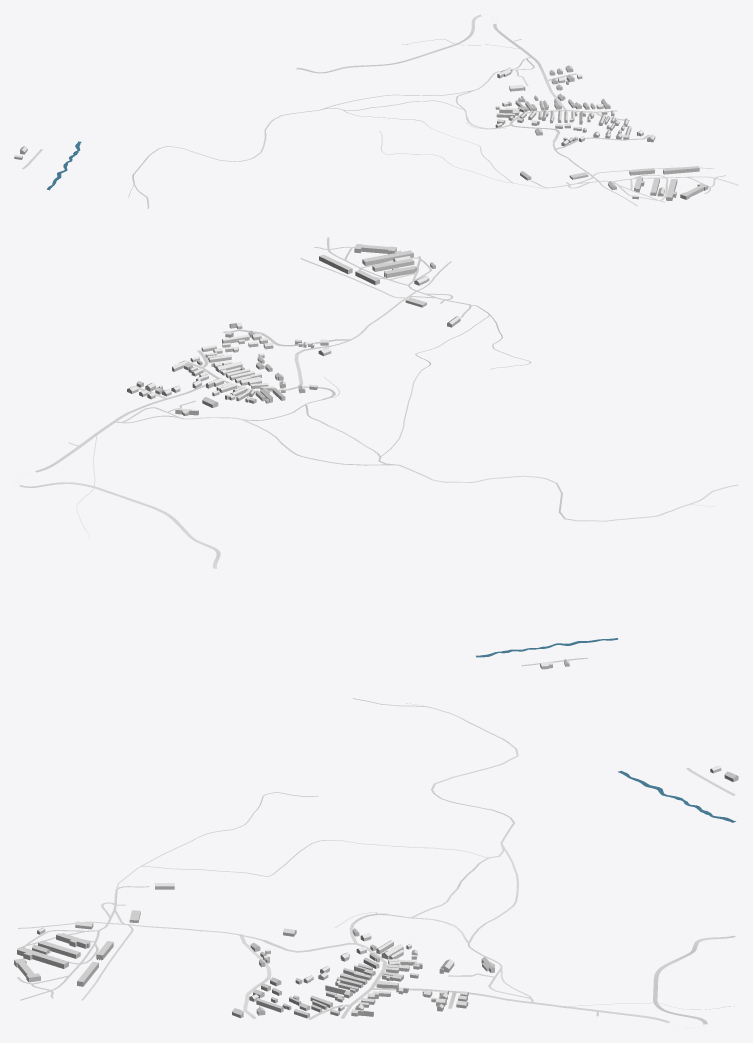
Rendered from objekty.glb.
3 renders of one model, top to bottom at view 1: azimuth 30°, elevation 25°; view 2: azimuth 150°, elevation 25°; view 3: azimuth 270°, elevation 25°, orthographic. The views are drawn at different scales.
Parts seen in each view (by area): view 1: Budovy_07_07, Cesty_07_07, Okna_Dvere_07_07; view 2: Budovy_07_07, Cesty_07_07, Okna_Dvere_07_07; view 3: Budovy_07_07, Cesty_07_07, Okna_Dvere_07_07.
Part boxes in pixels (x1,y1,x2,y2): Budovy_07_07: (14, 65, 708, 200); Cesty_07_07: (22, 14, 738, 208); Okna_Dvere_07_07: (14, 69, 707, 199); Budovy_07_07: (127, 244, 569, 669); Cesty_07_07: (19, 237, 738, 666); Okna_Dvere_07_07: (127, 248, 568, 667); Budovy_07_07: (14, 766, 738, 1018); Cesty_07_07: (17, 698, 735, 1024); Okna_Dvere_07_07: (14, 769, 737, 1017).
Size of the model in its own units: 1022 by 185 by 1013.
